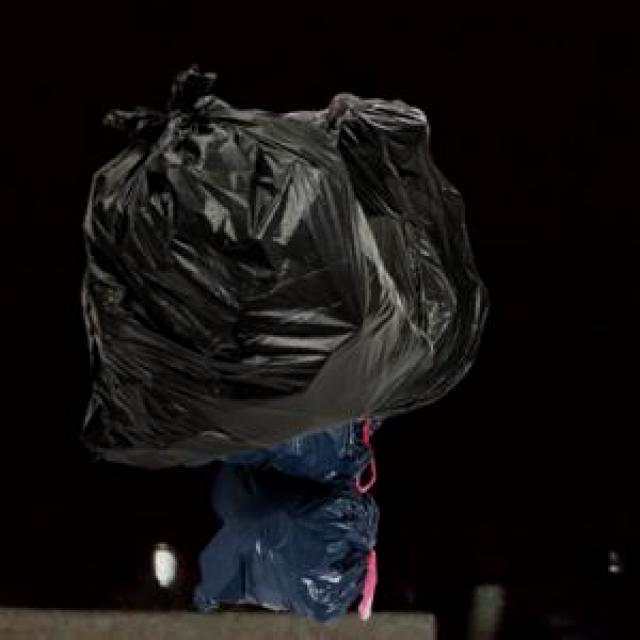Trashbag: (69, 59, 436, 479), (187, 466, 387, 616)
